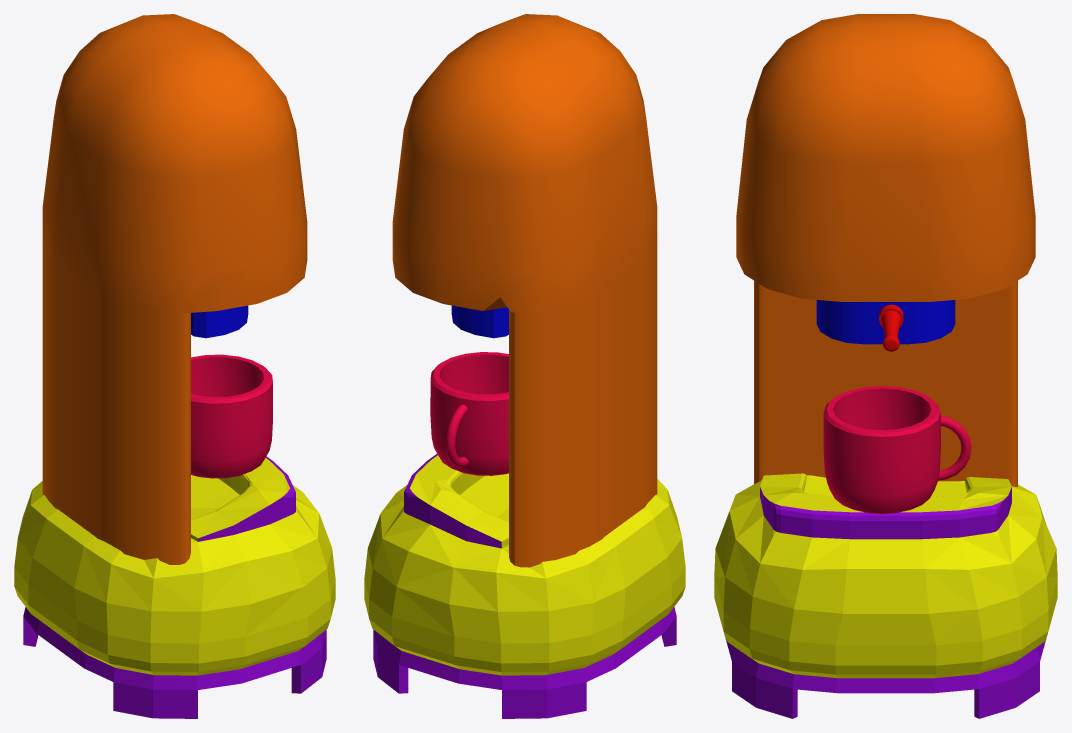
File: coffee_machine1.fbx
3 views of the same model, side by side, from view 1: azimuth 30°, elevation 25°; view 2: azimuth 150°, elevation 25°; view 3: azimuth 270°, elevation 25° (orthographic). The views are drawn at different scales.
Visible parts, largest first — view 1: pCube42, pCube46, pCylinder45; view 2: pCube42, pCube46, pCylinder45; view 3: pCube42, pCube46, pCylinder45, pCylinder46.
Part boxes in pixels (left/top/right/bottom): pCube42: left=42, top=14, right=307, bottom=564; pCube46: left=14, top=456, right=335, bottom=718; pCylinder45: left=191, top=354, right=272, bottom=478; pCube42: left=392, top=14, right=657, bottom=567; pCube46: left=364, top=454, right=685, bottom=718; pCylinder45: left=430, top=352, right=508, bottom=475; pCube42: left=736, top=14, right=1035, bottom=487; pCube46: left=714, top=473, right=1057, bottom=718; pCylinder45: left=823, top=386, right=971, bottom=514; pCylinder46: left=879, top=304, right=903, bottom=351.
Bounding box in the file's own units: 5.44 × 13.2 × 6.38.
